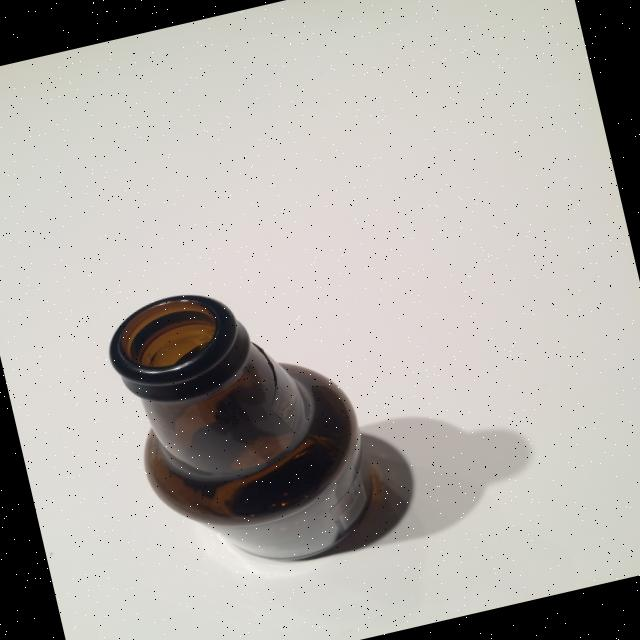glass: (97, 258, 390, 592)
